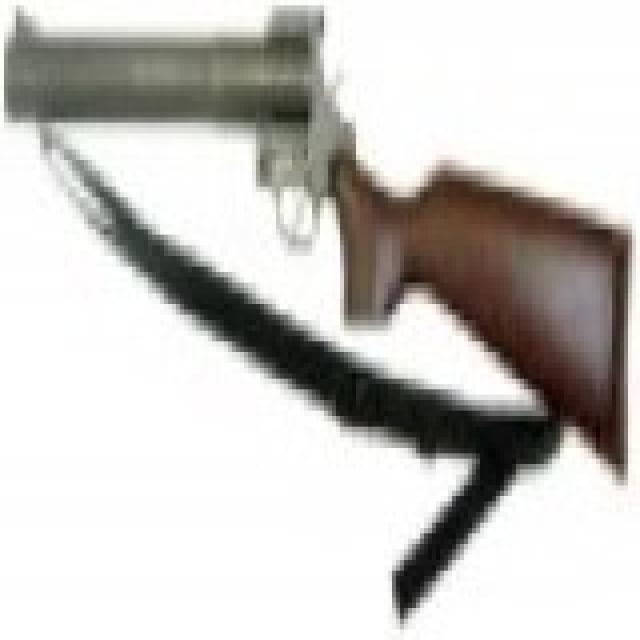Gun: (4, 9, 628, 478)
